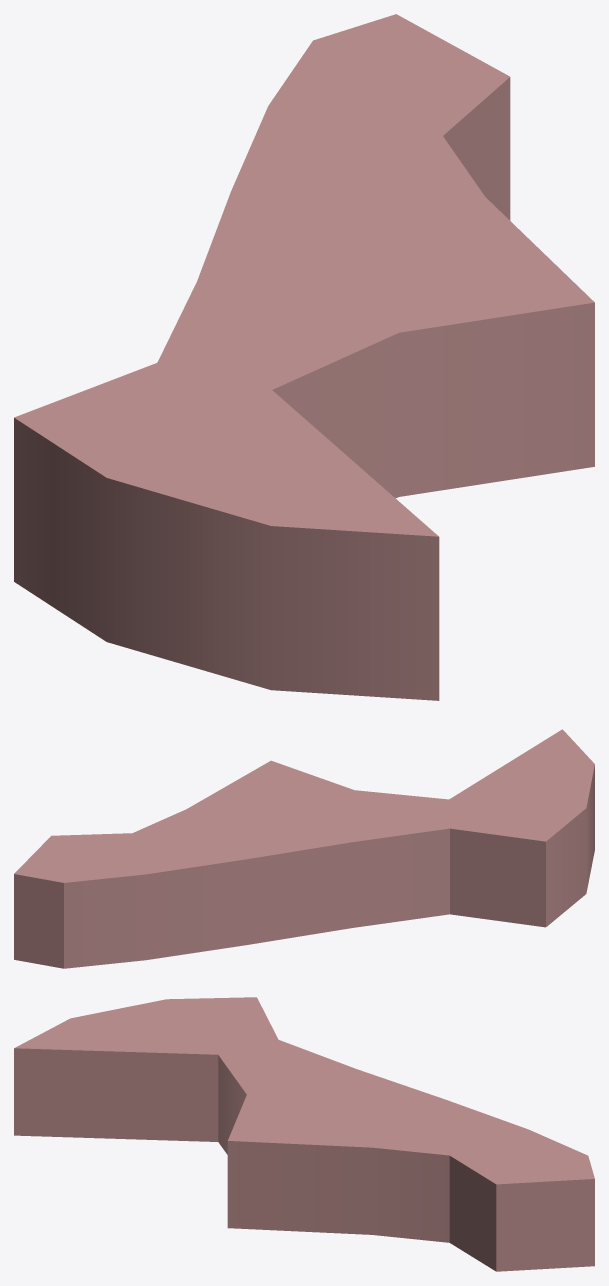
The model's file is kaohsiung.glb.
The picture shows the model from 3 angles, top to bottom: view 1: azimuth 30°, elevation 25°; view 2: azimuth 150°, elevation 25°; view 3: azimuth 270°, elevation 25°; orthographic projection. The views are drawn at different scales.
Visible parts, largest first — view 1: map_geo Kaohsiung_geo; view 2: map_geo Kaohsiung_geo; view 3: map_geo Kaohsiung_geo.
Part boxes in pixels (<box>): map_geo Kaohsiung_geo: <box>14,14,594,700</box>; map_geo Kaohsiung_geo: <box>14,729,594,968</box>; map_geo Kaohsiung_geo: <box>14,997,594,1271</box>.
Bounding box in the file's own units: 1.28 × 0.2781 × 1.68.
Materials: 1 (1 with a texture image).
